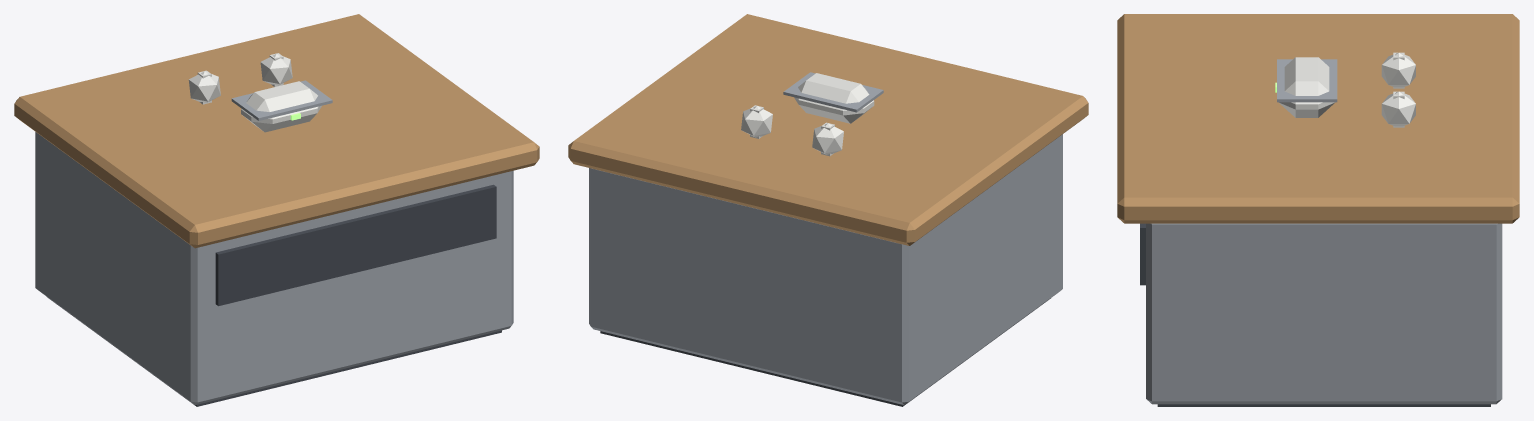
Rendered from headphones_1.glb.
3 renders of one model, left to right at view 1: azimuth 30°, elevation 25°; view 2: azimuth 150°, elevation 25°; view 3: azimuth 270°, elevation 25°, orthographic. The views are drawn at different scales.
Parts seen in each view (by area): view 1: headphones_1_mesh_Desk, headphones_1_mesh; view 2: headphones_1_mesh_Desk, headphones_1_mesh; view 3: headphones_1_mesh_Desk, headphones_1_mesh.
Part boxes in pixels (x1,y1,x2,y2): headphones_1_mesh_Desk: (14, 14, 539, 406); headphones_1_mesh: (188, 53, 332, 132); headphones_1_mesh_Desk: (568, 14, 1088, 406); headphones_1_mesh: (741, 72, 883, 156); headphones_1_mesh_Desk: (1117, 14, 1519, 406); headphones_1_mesh: (1275, 52, 1415, 127).
Size of the model in its own units: 0.78 by 0.49 by 0.7.
